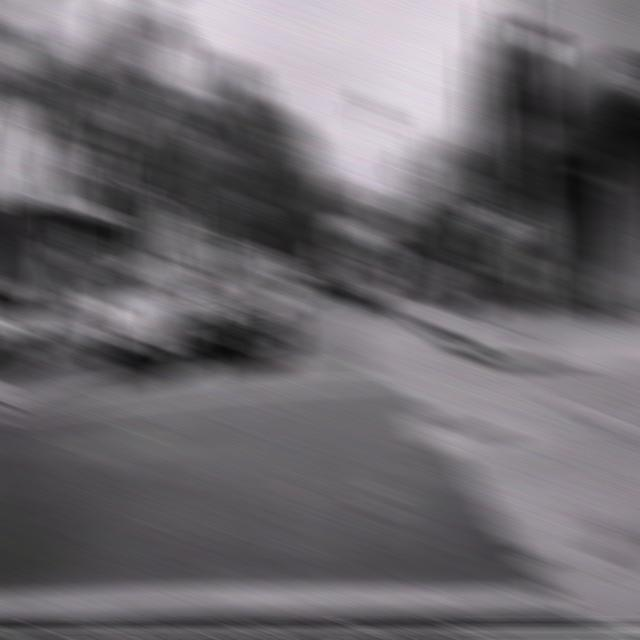speedLimit25: (443, 162, 481, 216)
